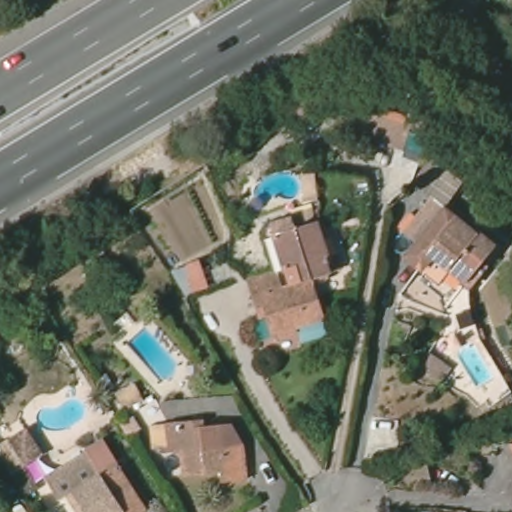pool: (125, 329, 179, 381), (455, 338, 496, 387), (247, 171, 306, 205), (32, 398, 88, 432)
